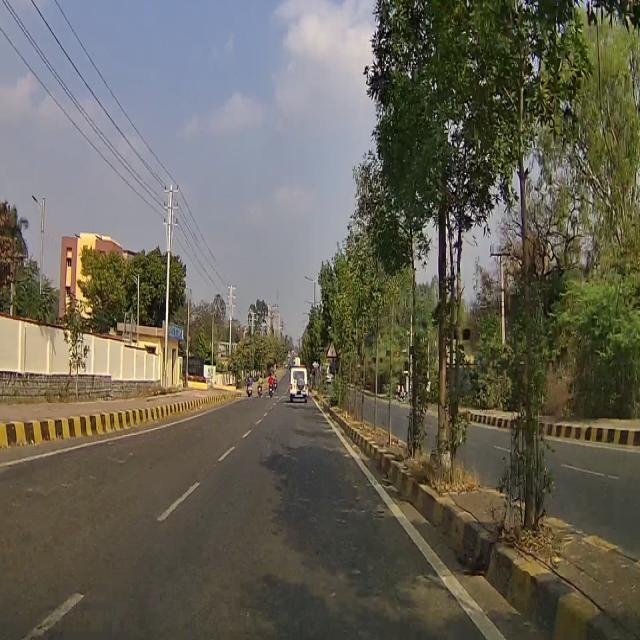gap-in-median: (326, 340, 338, 357)
